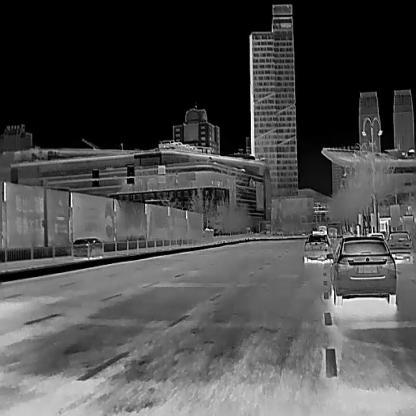car: (329, 233, 397, 307), (302, 228, 333, 262), (386, 229, 413, 263), (72, 234, 104, 258), (367, 231, 384, 239), (318, 224, 326, 234)
